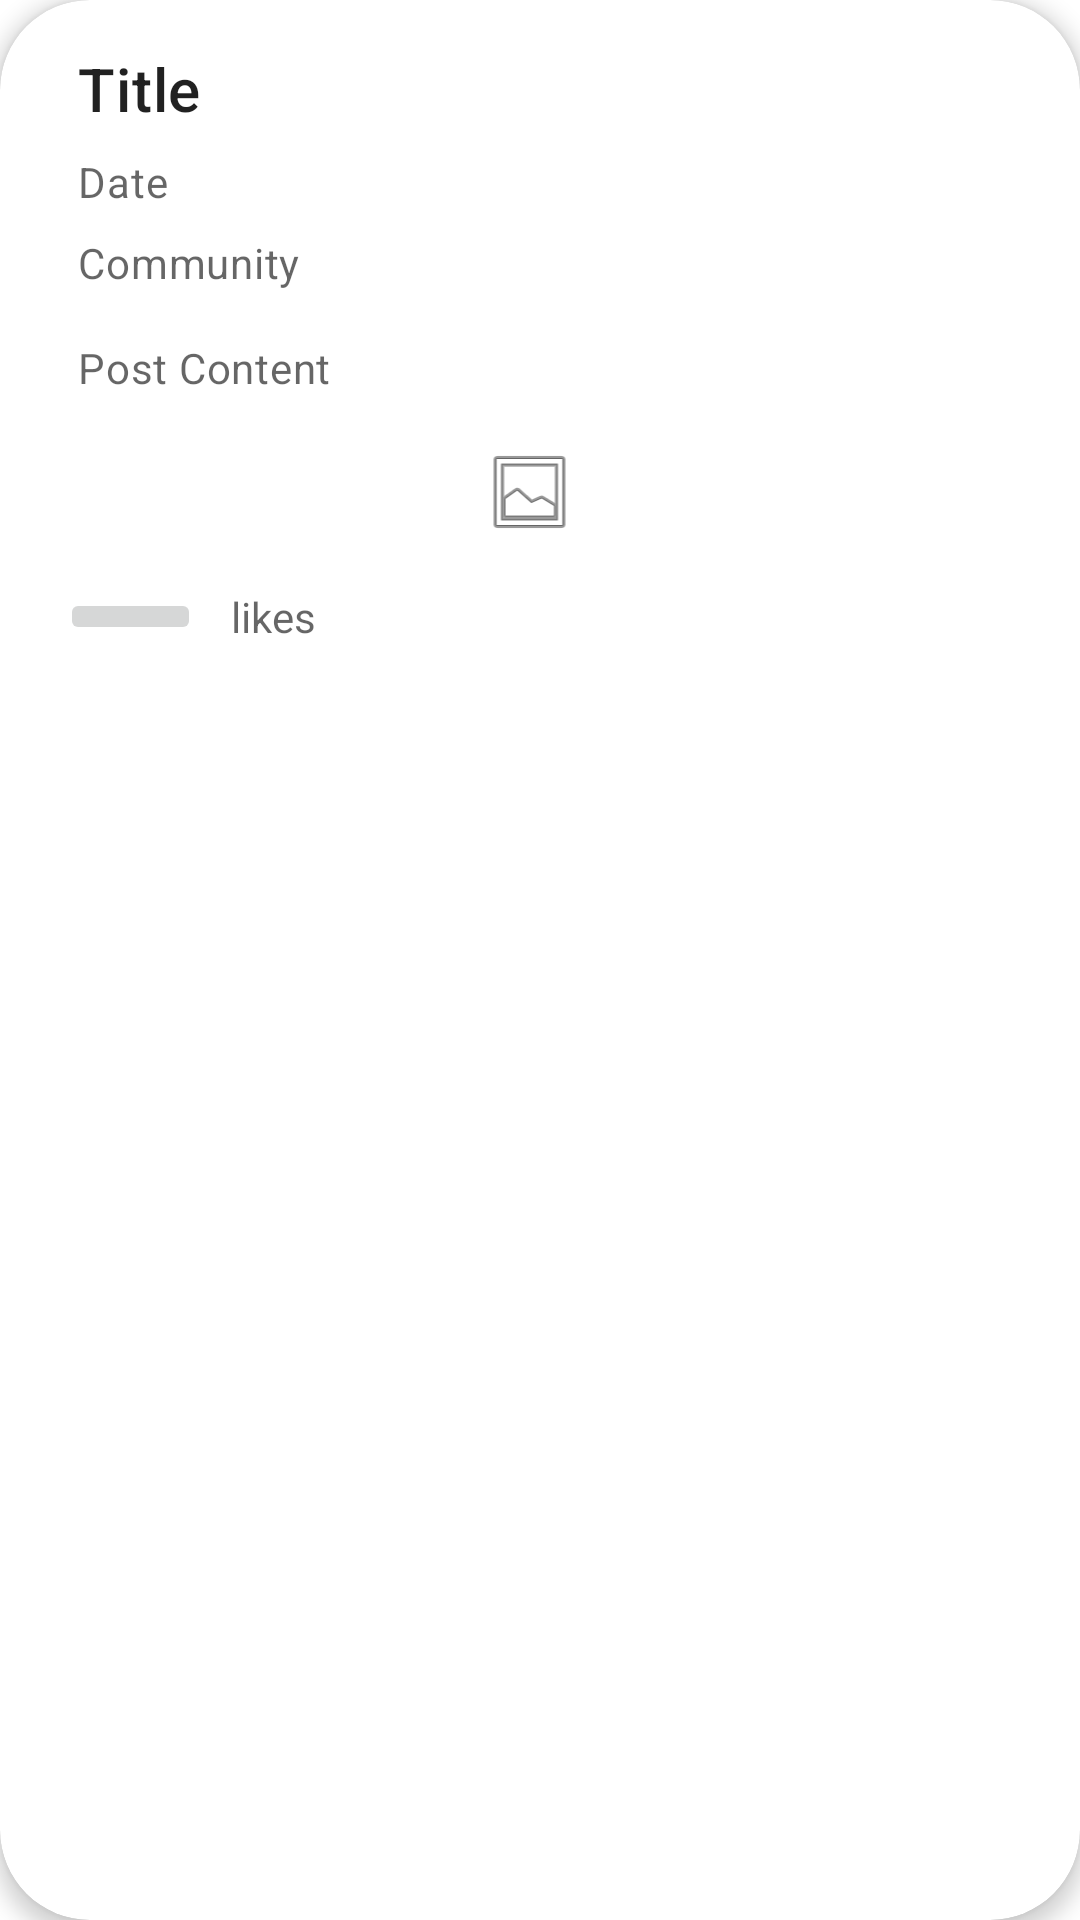

Where to tap for icons on this 1080x1920 app screen, as (x=x, y=y):
gallery: (x=529, y=492)
